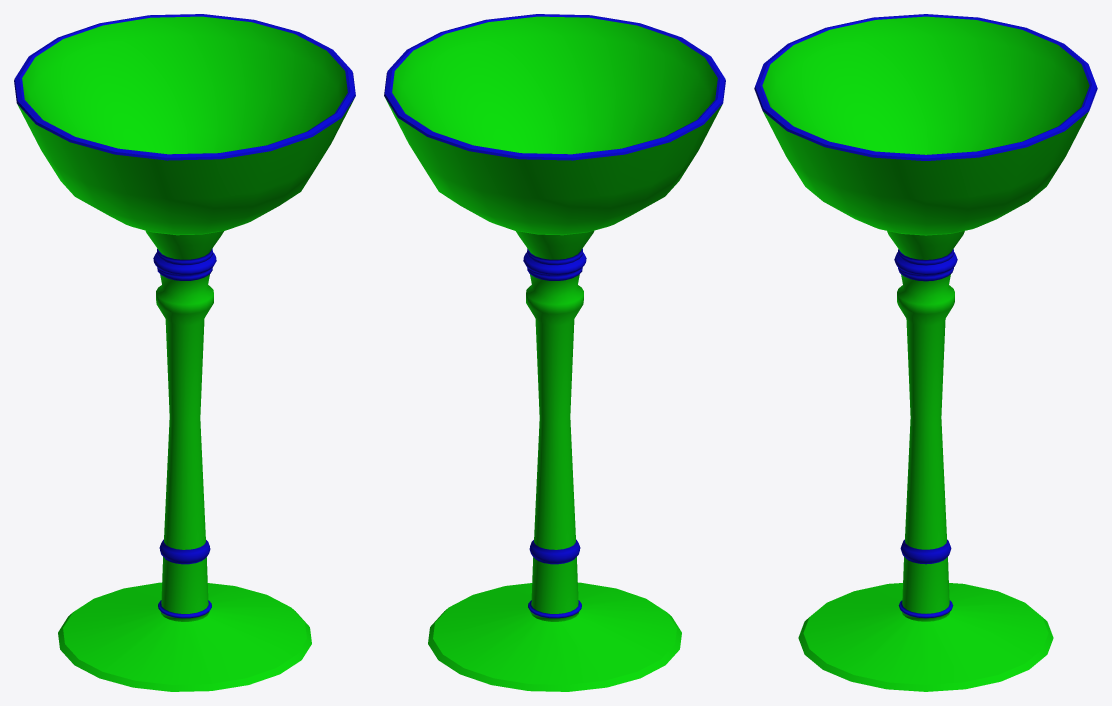
The model's file is Marble cup.fbx.
The picture shows the model from 3 angles, left to right: view 1: azimuth 30°, elevation 25°; view 2: azimuth 150°, elevation 25°; view 3: azimuth 270°, elevation 25°; orthographic projection.
Visible parts, largest first — view 1: pCylinder1; view 2: pCylinder1; view 3: pCylinder1.
Part boxes in pixels (<box>): pCylinder1: <box>14,14,355,691</box>; pCylinder1: <box>384,14,725,691</box>; pCylinder1: <box>754,14,1097,691</box>.
Size of the model in its own units: 1.71 by 3.04 by 1.71.
